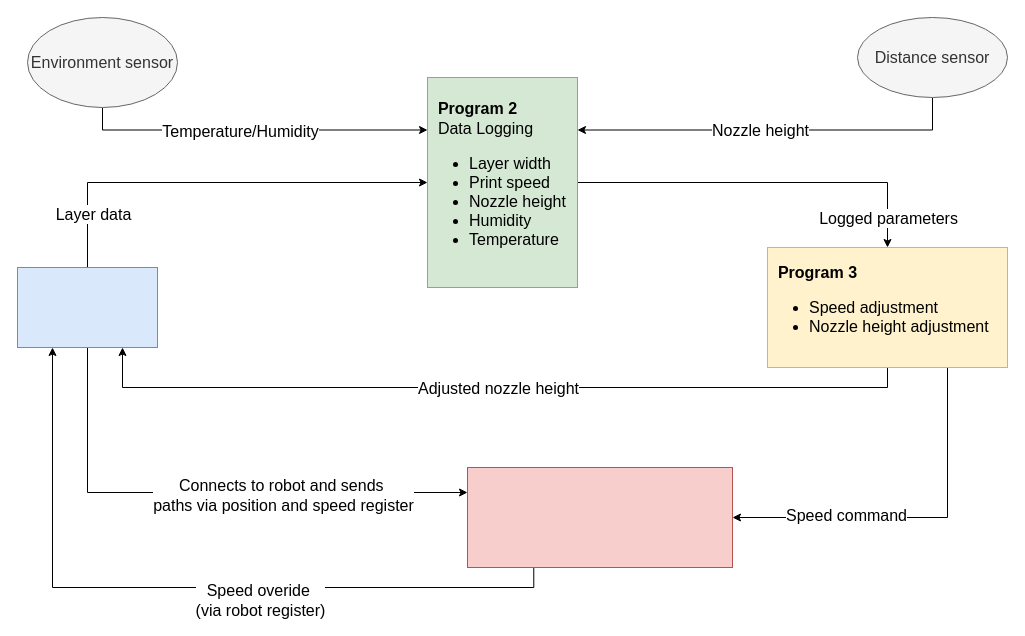
Some shapes in this 1025 by 636 pixel diagram are drawn without their labels. The centre of each missing label's shape, as x and y in pixels:
"Program 1 Motion instruction" belongs at (x=87, y=307).
"Robot Program (Handles python communication) Motion execution" belongs at (x=599, y=517).
